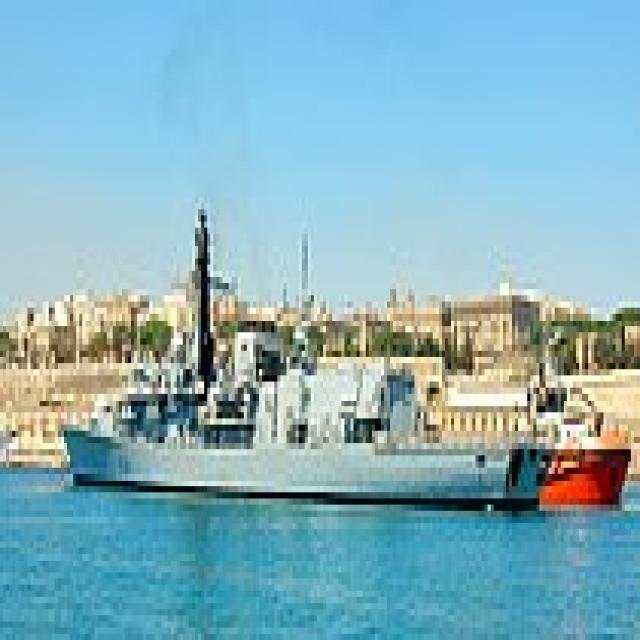Warship: (55, 191, 539, 498)
